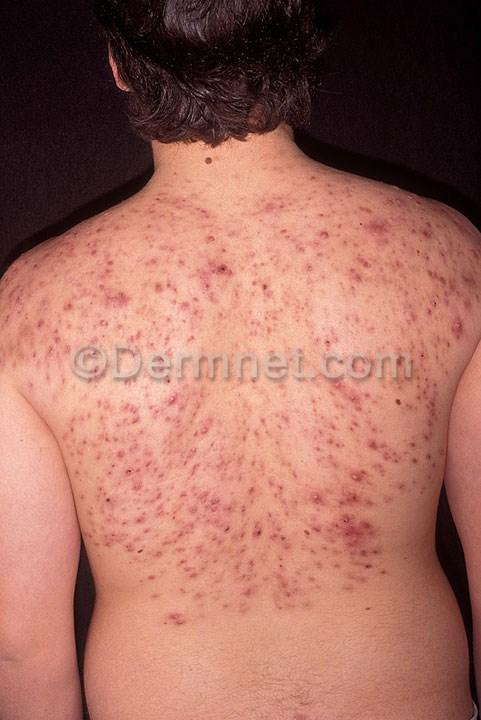Acne: (309, 232, 473, 441), (165, 221, 310, 377), (289, 401, 410, 565), (167, 357, 318, 488), (99, 503, 258, 624), (4, 261, 131, 391), (75, 395, 186, 501)
